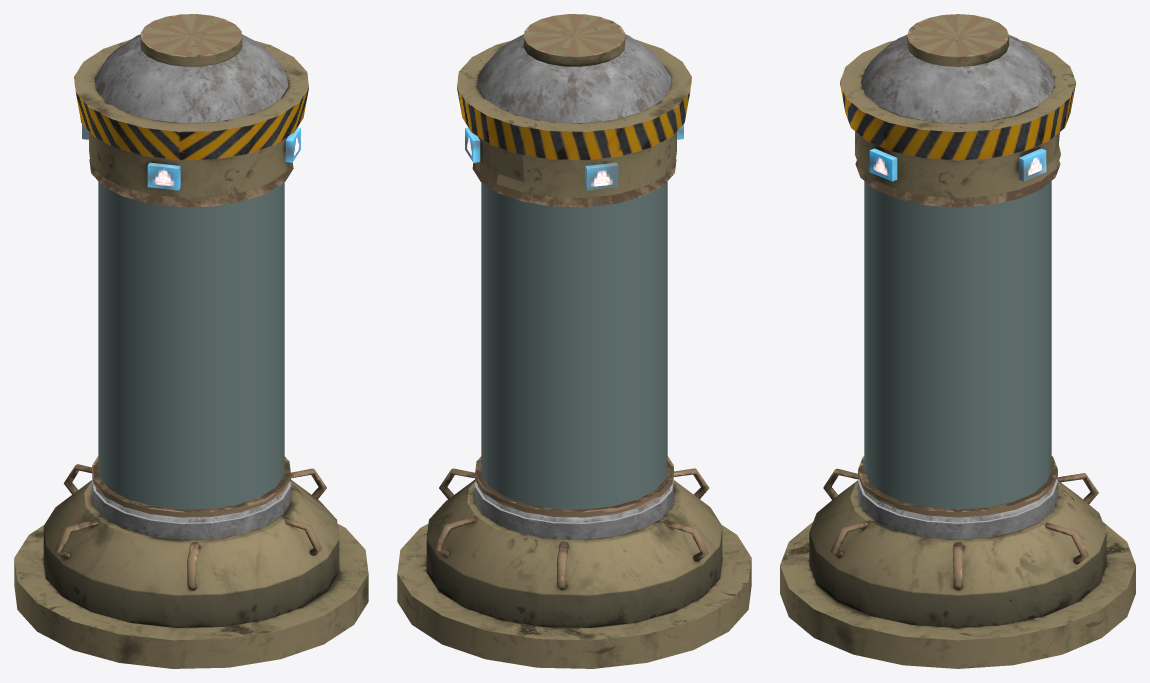
Rendered from lab_tube_for_p.a.l.fbx.
3 views of the same model, side by side, from view 1: azimuth 30°, elevation 25°; view 2: azimuth 150°, elevation 25°; view 3: azimuth 270°, elevation 25° (orthographic).
Visible parts, largest first — view 1: pasted__pasted__pasted__pCylinder2_lambert1_0; view 2: pasted__pasted__pasted__pCylinder2_lambert1_0; view 3: pasted__pasted__pasted__pCylinder2_lambert1_0.
Part boxes in pixels (left/top/right/bottom): pasted__pasted__pasted__pCylinder2_lambert1_0: left=14, top=14, right=368, bottom=668; pasted__pasted__pasted__pCylinder2_lambert1_0: left=397, top=14, right=751, bottom=668; pasted__pasted__pasted__pCylinder2_lambert1_0: left=780, top=14, right=1135, bottom=668.
Bounding box in the file's own units: 380 × 658 × 380.
1 material, 1 textured.
